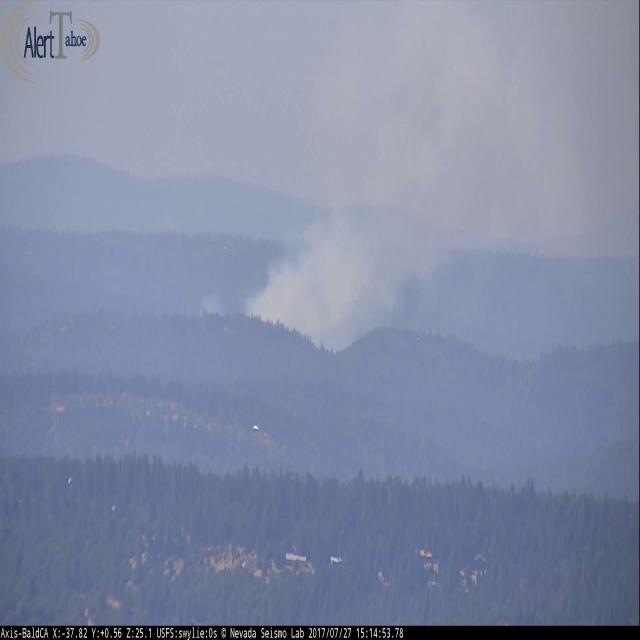smoke: (246, 0, 602, 350), (193, 290, 226, 320)
